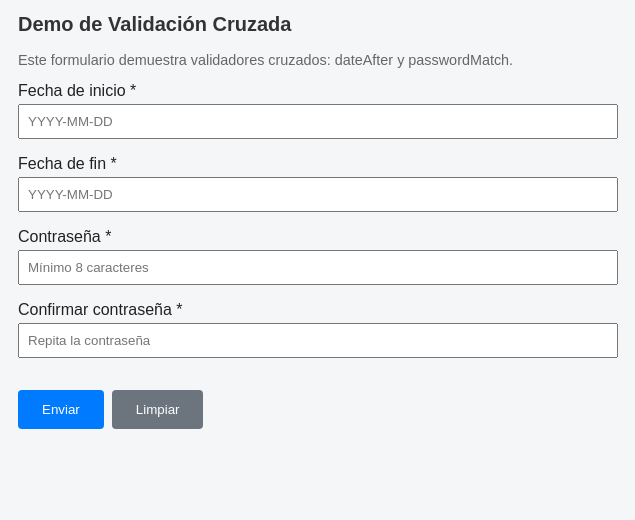
Scenario: ValidationDemo integration tests › shows error when required field is empty on submit
Click the button "Enviar" at [61, 410], box left=18, top=390, right=104, bottom=429
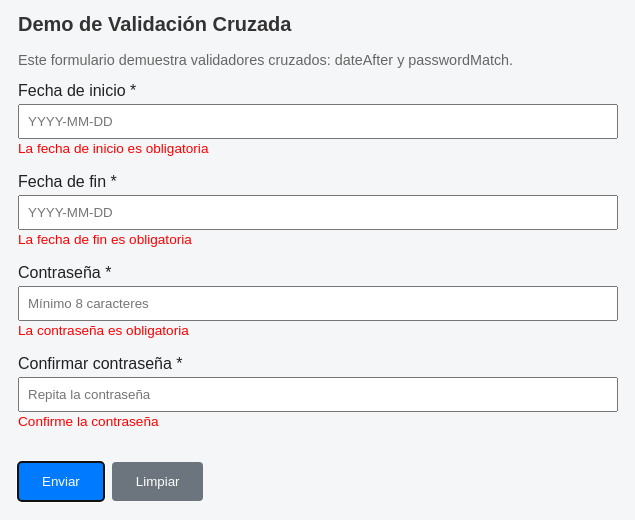
expect the text "La fecha de inicio es obligatoria" is shown: met, box left=18, top=141, right=208, bottom=156
expect the text "La fecha de fin es obligatoria" is shown: met, box left=18, top=232, right=192, bottom=247
expect the text "La contraseña es obligatoria" is shown: met, box left=18, top=323, right=189, bottom=338
